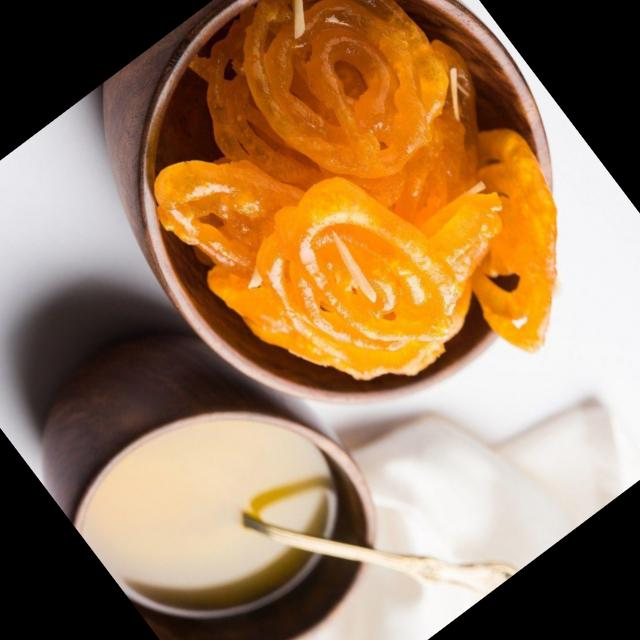jalebi: (87, 0, 640, 473)
